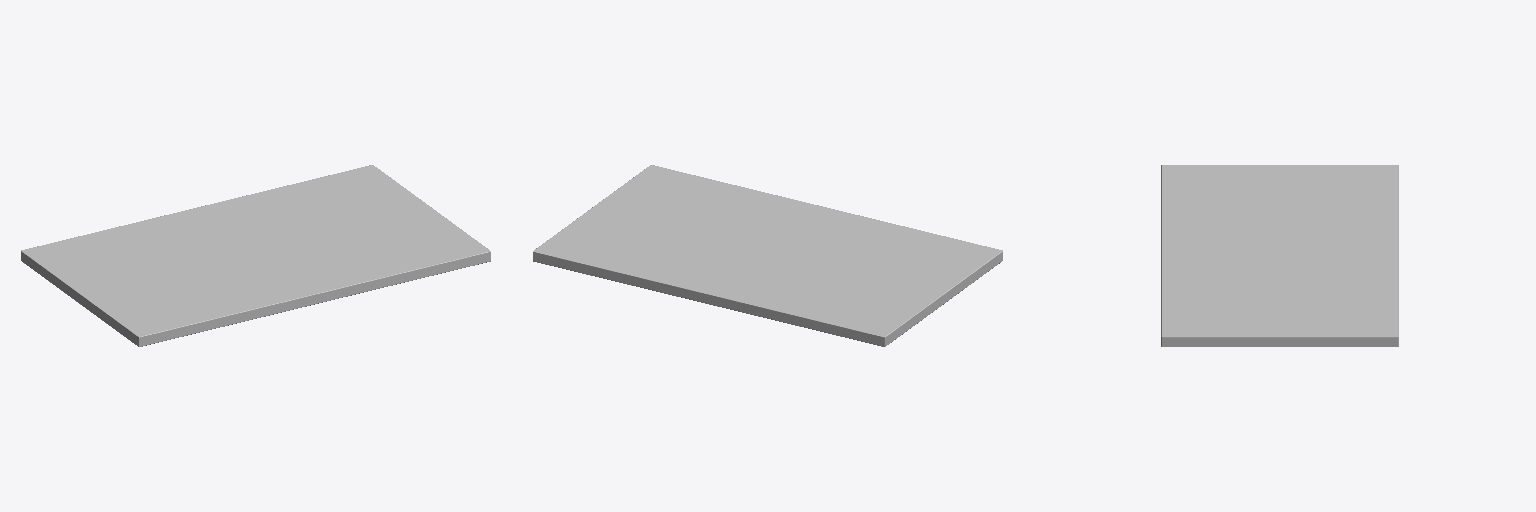
Rendered from CounterWall.obj.
The picture shows the model from 3 angles: view 1: azimuth 30°, elevation 25°; view 2: azimuth 150°, elevation 25°; view 3: azimuth 270°, elevation 25°; orthographic projection.
Parts seen in each view (by area): view 1: SM_Counter_Wall_14; view 2: SM_Counter_Wall_14; view 3: SM_Counter_Wall_14.
Boxes of the visible parts, box(x1,y1,x2,y2) form: SM_Counter_Wall_14: box(21, 165, 490, 346); SM_Counter_Wall_14: box(533, 165, 1002, 346); SM_Counter_Wall_14: box(1161, 165, 1398, 346).
Bounding box in the file's own units: 103 × 2.88 × 60.